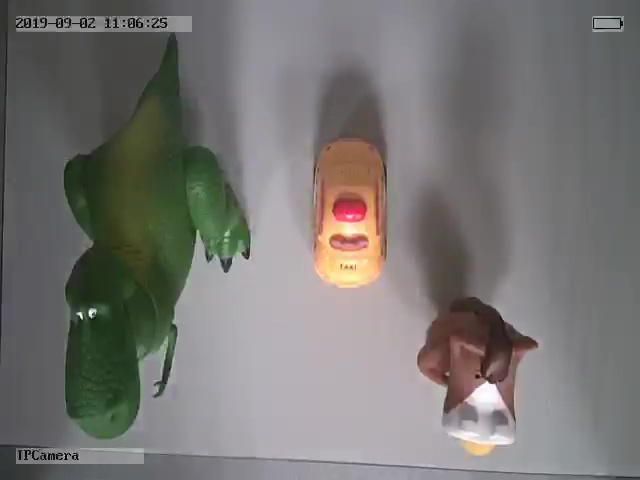car: (310, 134, 389, 288)
horse: (415, 296, 540, 460)
rex: (62, 50, 253, 439)
